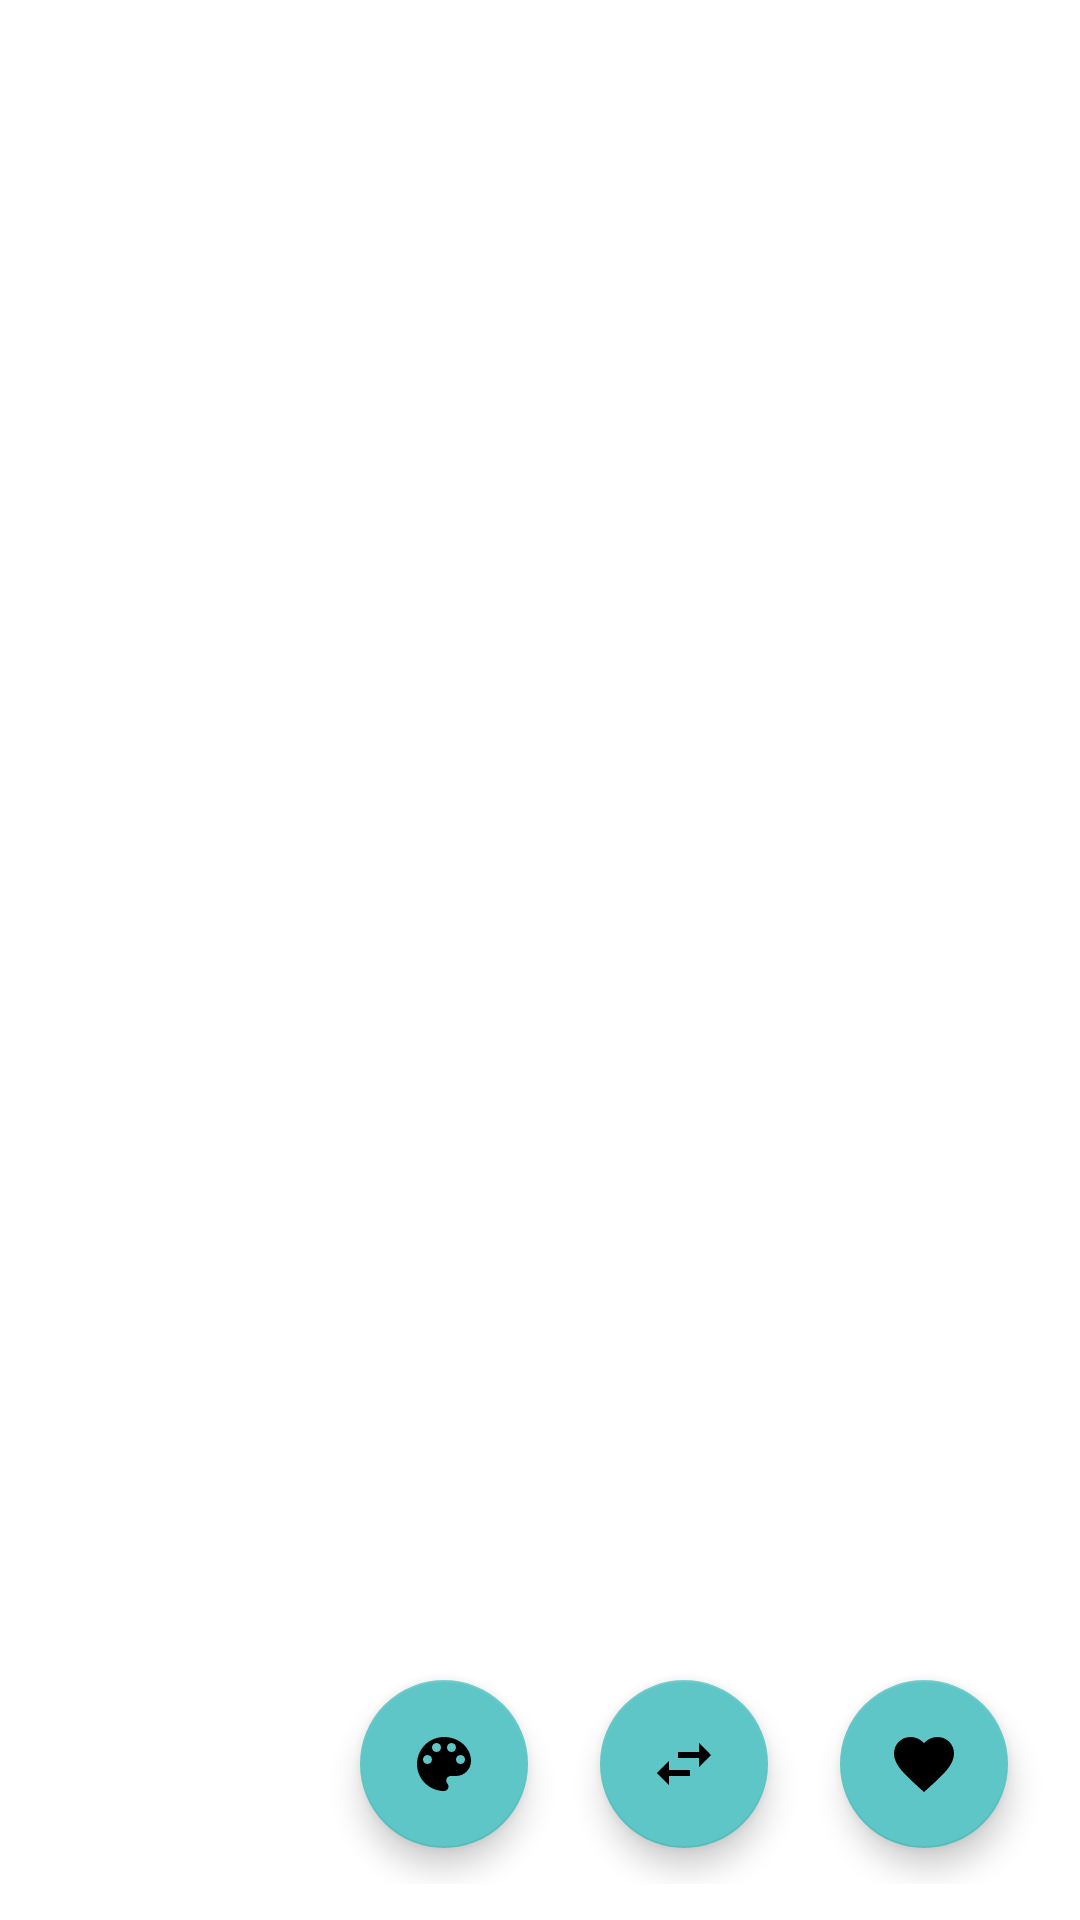

Icon click points for this 1080x1920 phone screenshot, format point (x, y):
like: point (924, 1764)
swap horiz: point (684, 1764)
